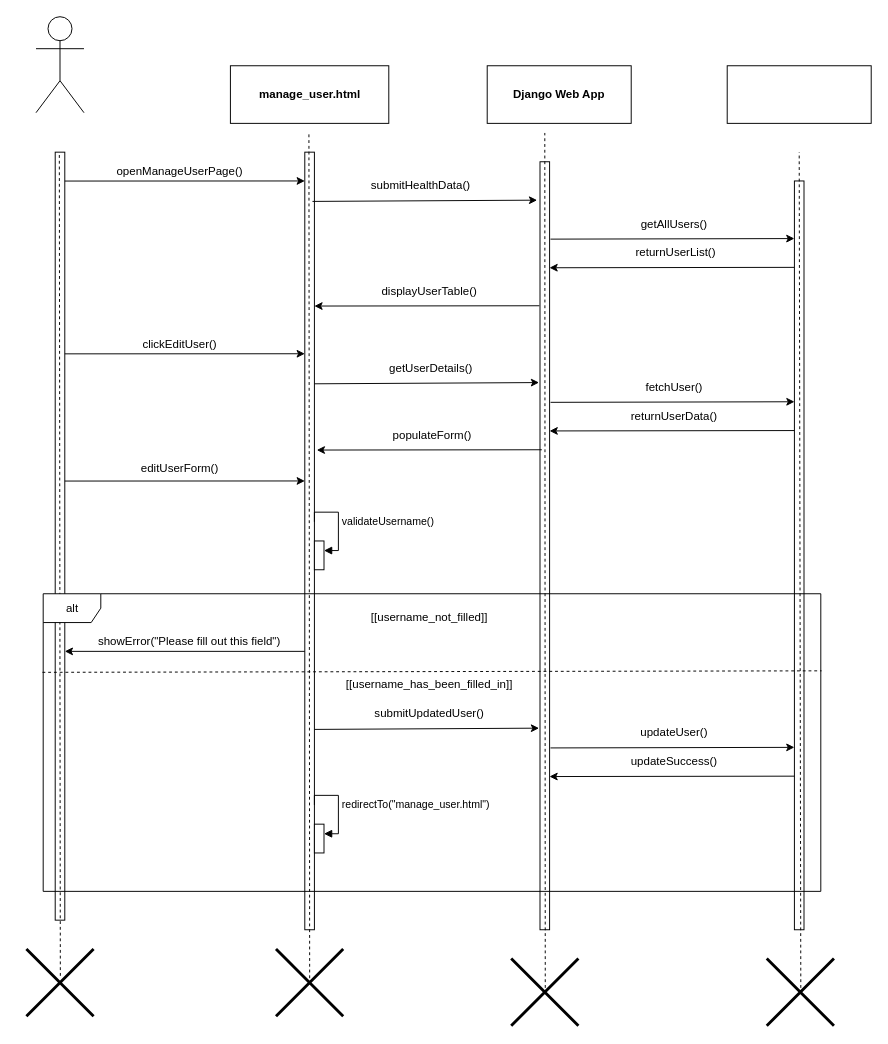
Some shapes in this 888 by 1044 pixel diagram are drawn without their labels. Each missing label, with the box of its shape:
MySQL: (726, 65, 871, 123)
แอดมิน: (35, 16, 84, 113)
